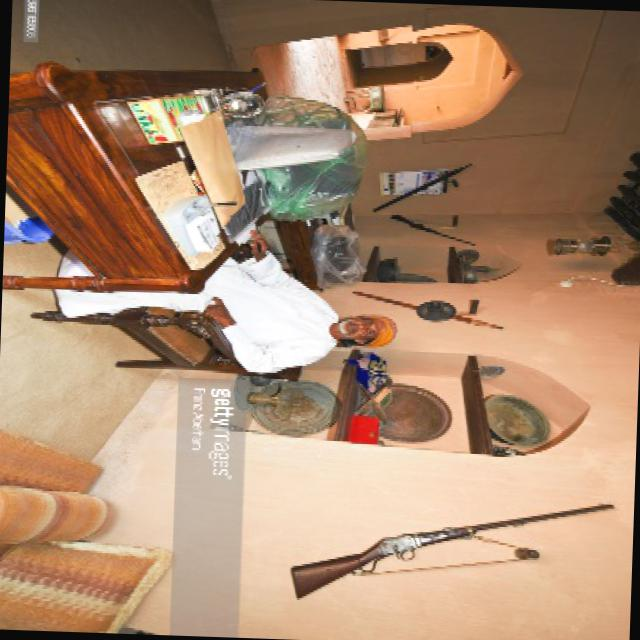long weapon: (288, 482, 620, 616)
